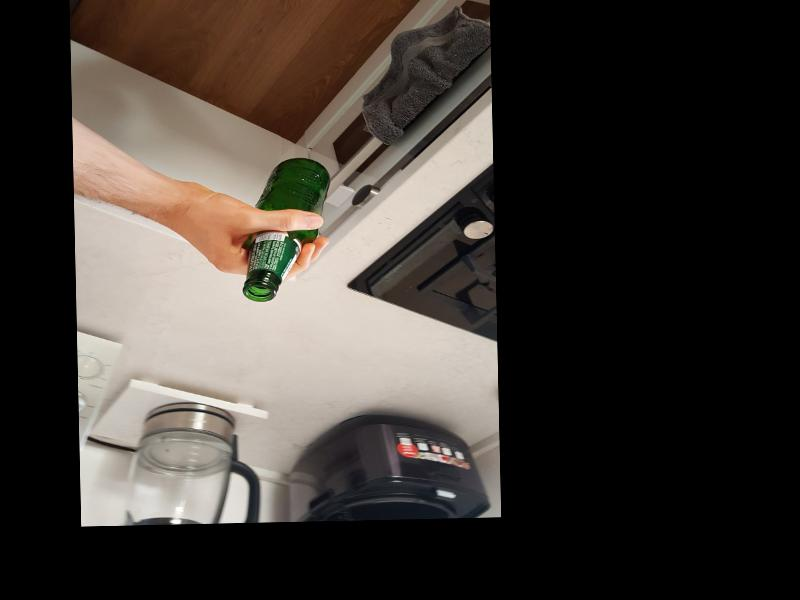Beer: (239, 155, 332, 301)
